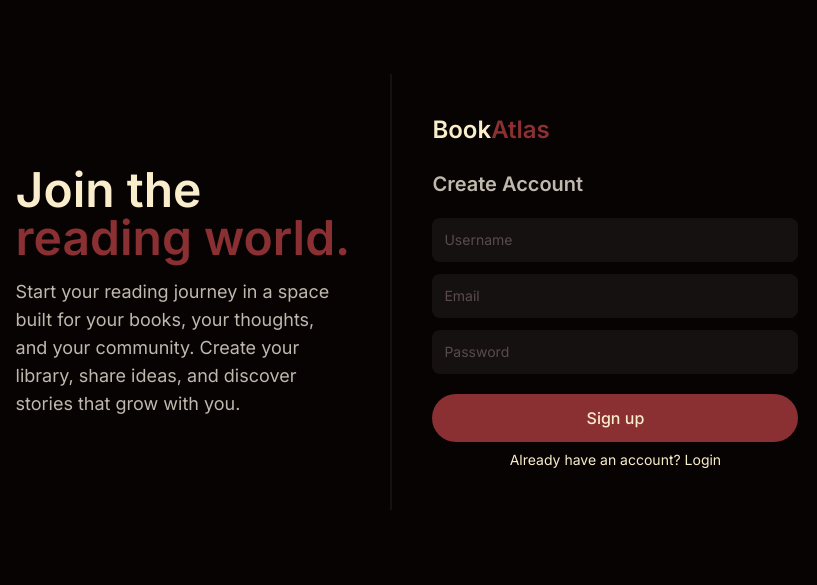
it: RegisterPage › shows errors for invalid password format
The width and height of the screenshot is (817, 585).
Type "testuser1" into the field with placeholder "Username".
click(615, 240); type("testuser1")  # box [432,218,798,262]
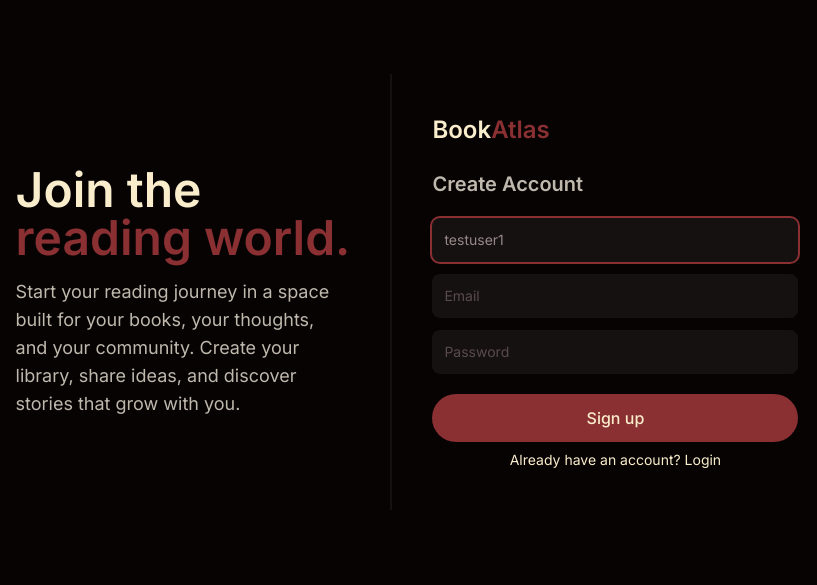
Type "testuser1@example.com" into the field with placeholder "Email".
click(615, 296); type("testuser1@example.com")  # box [432,274,798,318]
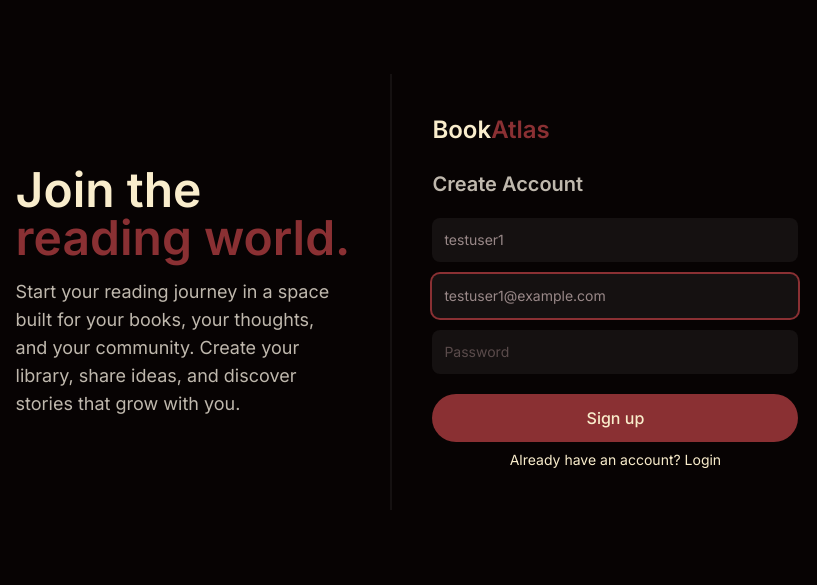
Type "password" into the password field with placeholder "Password".
click(615, 352); type("password")  # box [432,330,798,374]
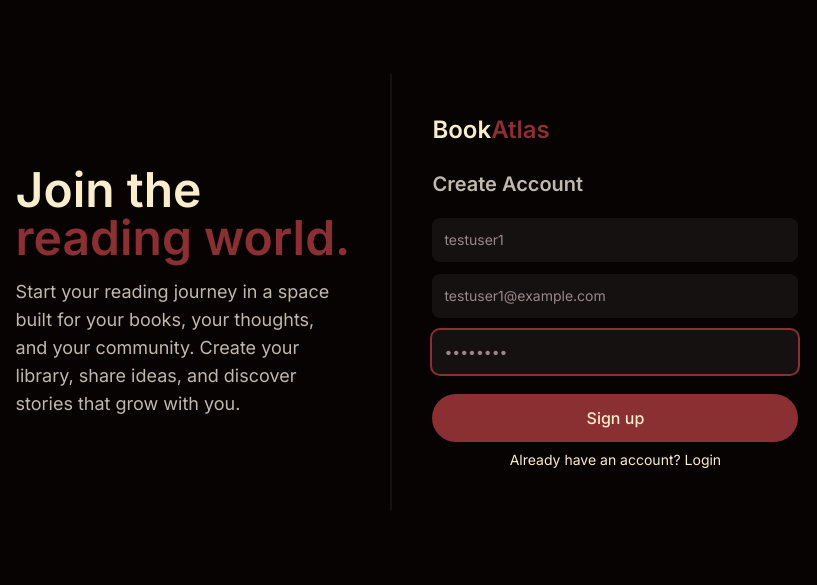
Click the button "Sign up".
click(615, 418)  # box [432,394,798,442]
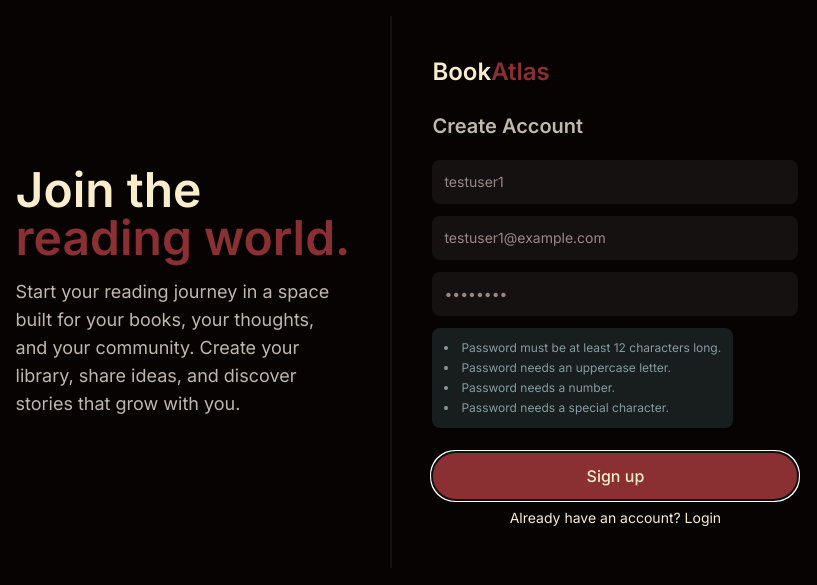
Now the list item "Password must be at least 12 characters long." is shown, box [444,340,721,356]
Now the list item "Password needs an uppercase letter." is shown, box [461,360,671,375]
Now the list item "Password needs a number." is shown, box [461,380,615,395]
